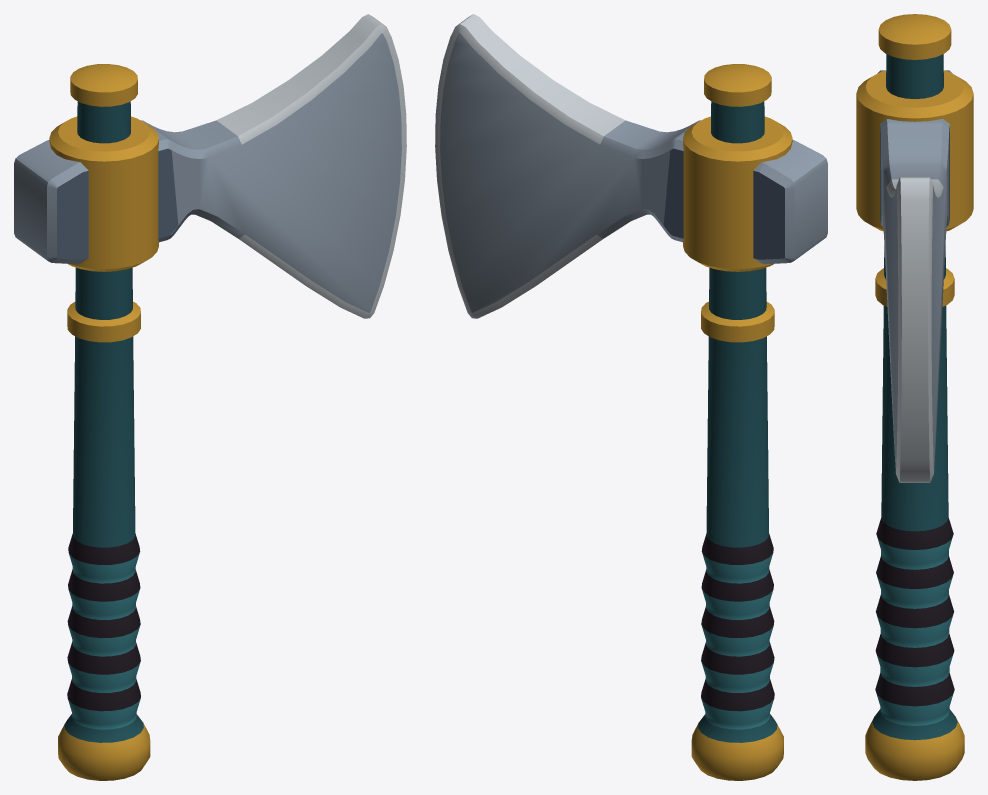
Rendered from Axe_21.glb.
3 renders of one model, left to right at view 1: azimuth 30°, elevation 25°; view 2: azimuth 150°, elevation 25°; view 3: azimuth 270°, elevation 25°, orthographic. The views are drawn at different scales.
Parts seen in each view (by area): view 1: Axe_21; view 2: Axe_21; view 3: Axe_21.
Part boxes in pixels (<box>): Axe_21: <box>14,14,406,780</box>; Axe_21: <box>435,14,827,780</box>; Axe_21: <box>856,14,973,780</box>.
Bounding box in the file's own units: 2.45 × 4.36 × 0.628.
